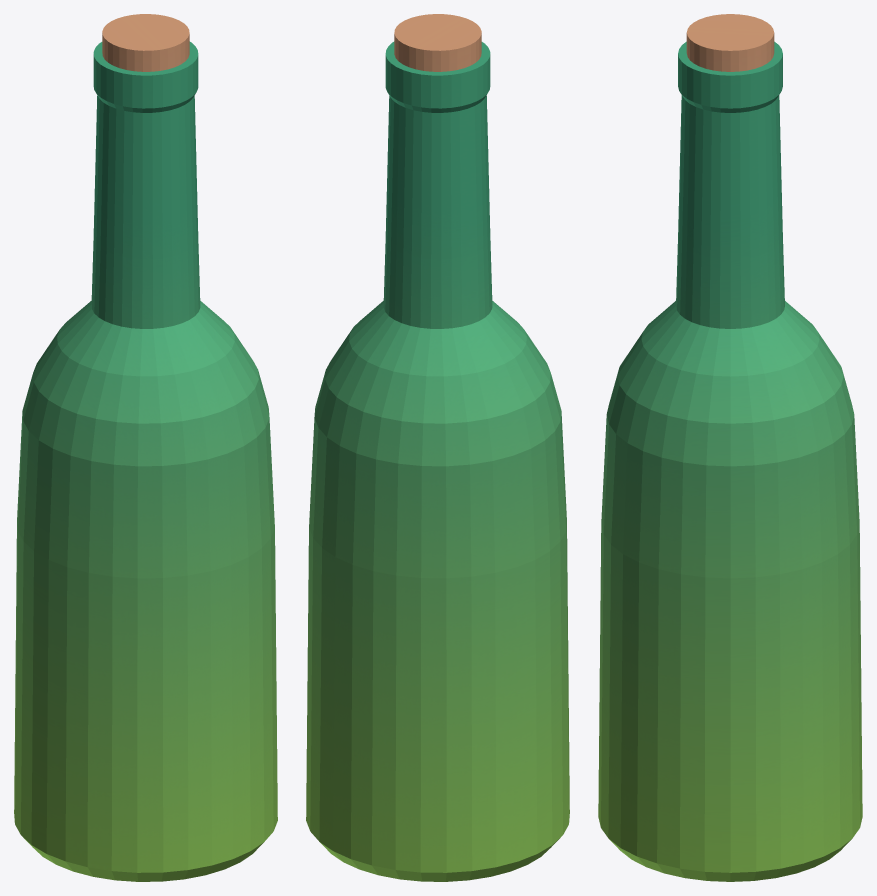
File: GlassBottleTextured.fbx
3 views of the same model, side by side, from view 1: azimuth 30°, elevation 25°; view 2: azimuth 150°, elevation 25°; view 3: azimuth 270°, elevation 25° (orthographic).
Visible parts, largest first — view 1: Bottle; view 2: Bottle; view 3: Bottle.
Boxes of the visible parts, bbox=[...] form: Bottle: bbox=[14, 14, 277, 881]; Bottle: bbox=[306, 14, 569, 881]; Bottle: bbox=[598, 14, 862, 881].
Bounding box in the file's own units: 129 × 431 × 129.
1 material, 1 textured.
